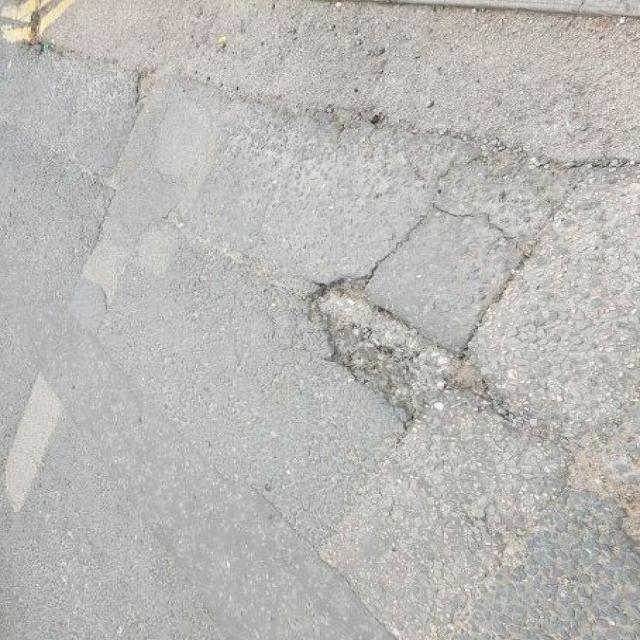Pothole: (300, 271, 519, 428)
